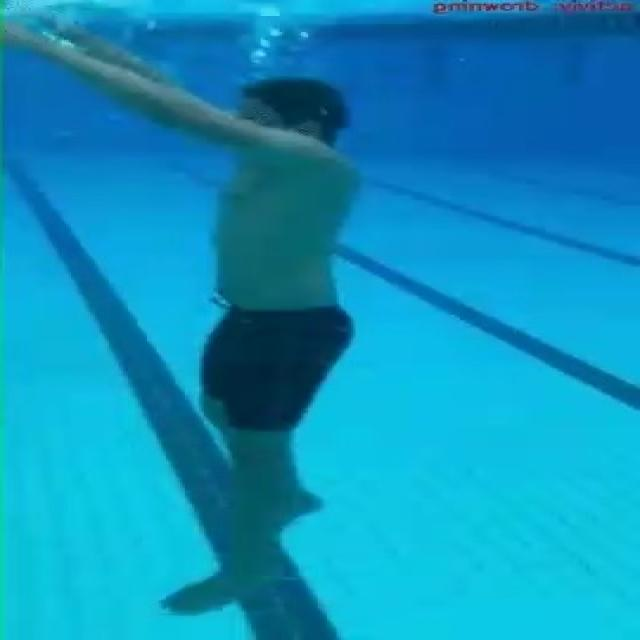drowning: (89, 71, 418, 606)
